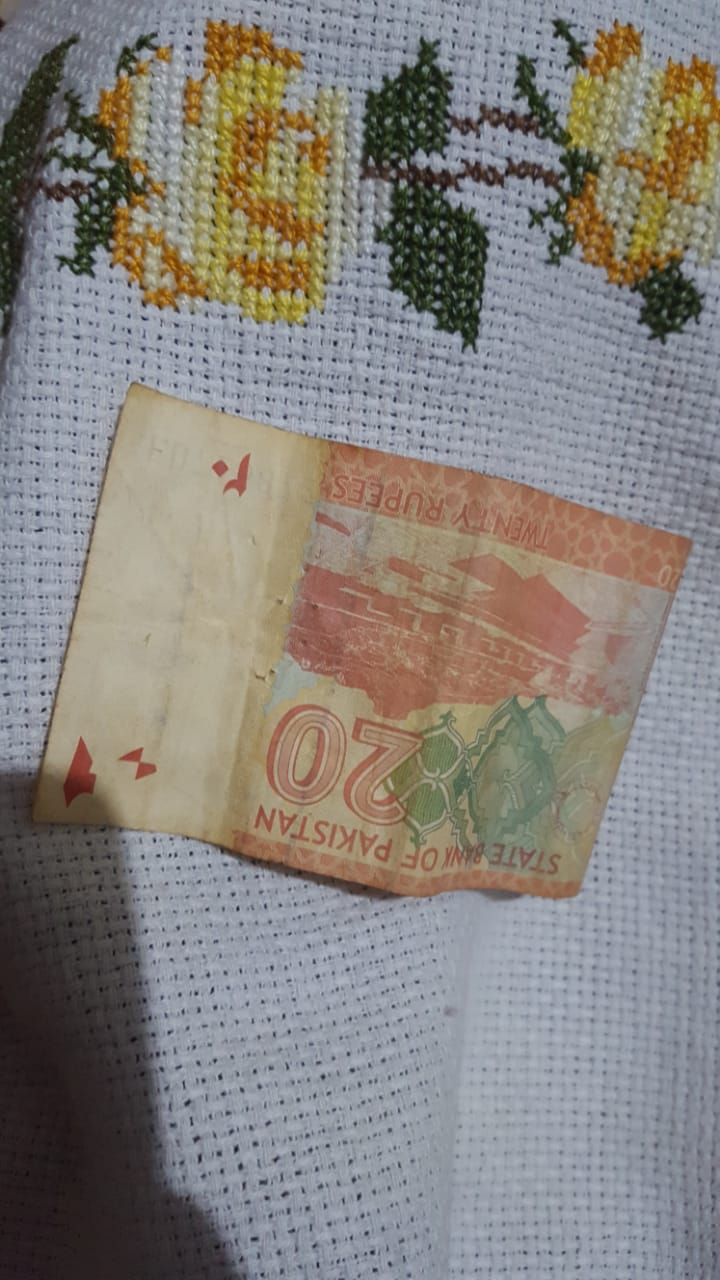20 rupee: (28, 384, 695, 891)
